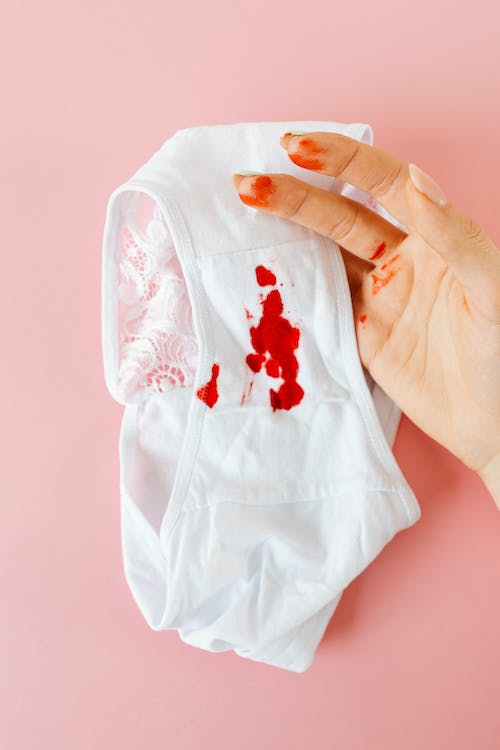blood: (193, 261, 305, 415), (352, 236, 404, 332), (282, 130, 333, 175), (233, 165, 279, 214)
